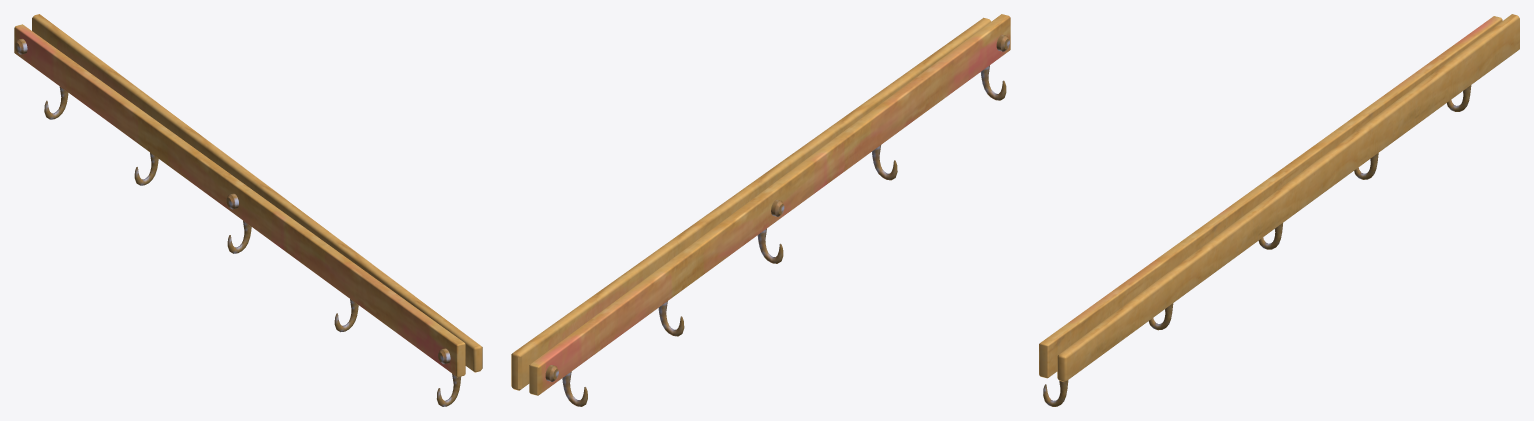
Rendered from SM_Pot_Holder.fbx.
3 views of the same model, side by side, from view 1: azimuth 30°, elevation 25°; view 2: azimuth 150°, elevation 25°; view 3: azimuth 330°, elevation 25° (orthographic). The views are drawn at different scales.
Parts seen in each view (by area): view 1: SM_Pot_Holder_LOD0; view 2: SM_Pot_Holder_LOD0; view 3: SM_Pot_Holder_LOD0.
Part boxes in pixels (box(x1,y1,x2,y2)): SM_Pot_Holder_LOD0: box(14, 14, 482, 406); SM_Pot_Holder_LOD0: box(511, 14, 1010, 406); SM_Pot_Holder_LOD0: box(1039, 14, 1519, 406).
Bounding box in the file's own units: 5.6 × 125 × 11.23.
Materials: 1 (1 with a texture image).
